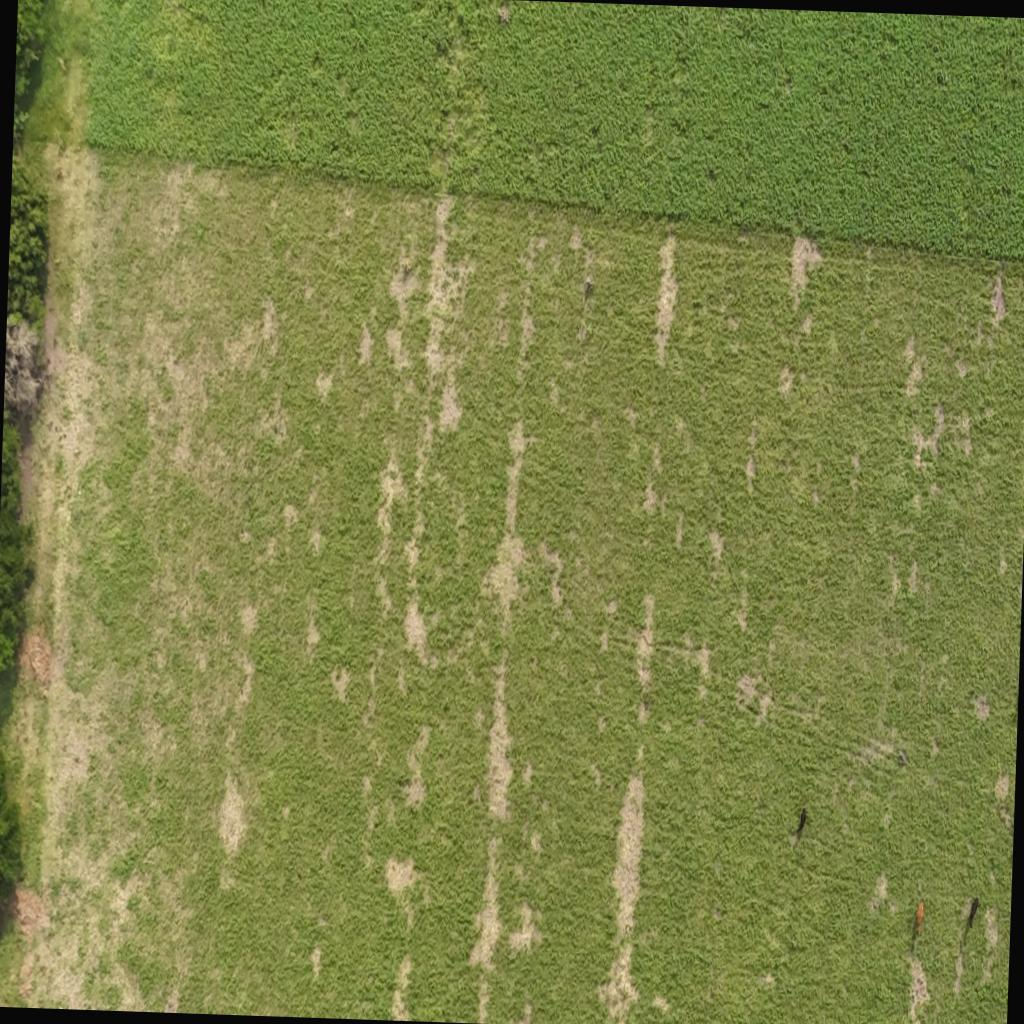cow: (961, 898, 978, 946), (790, 810, 814, 838), (912, 900, 924, 942)
